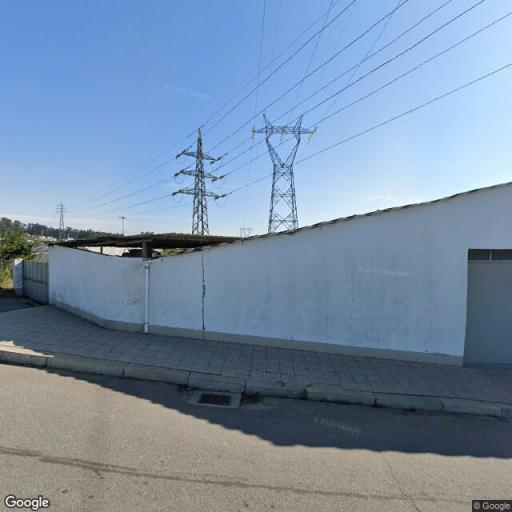ss_3: (174, 125, 227, 235), (56, 202, 67, 230)
wt_5: (247, 112, 318, 234), (240, 224, 254, 238)
